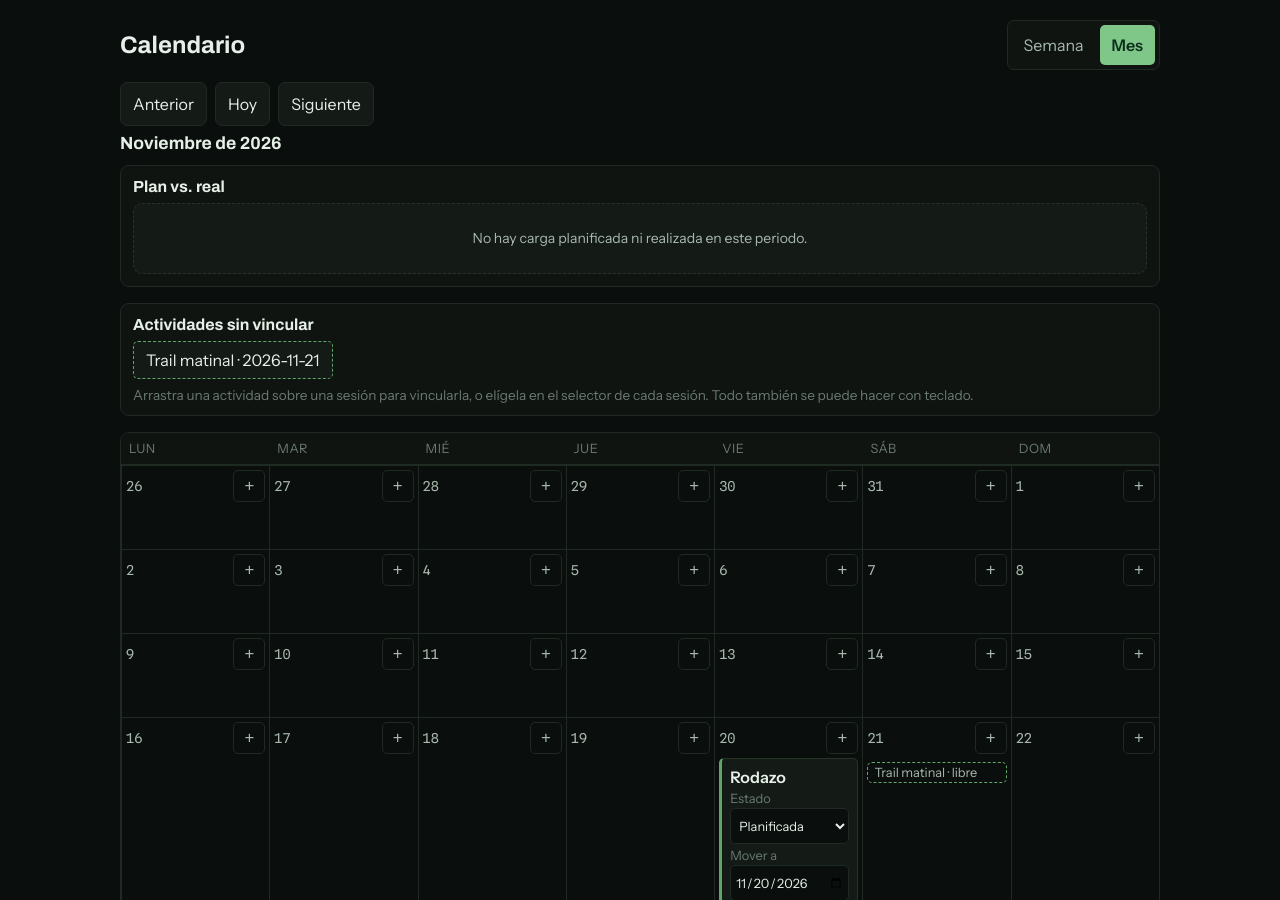
CalendarContainer › switches to a seven-day week view and refetches its range
Expected: the text "Rodazo" is shown, [730,767,786,787]
Click the button "Semana" at {"x": 1054, "y": 45}, box [1012,25,1096,65]
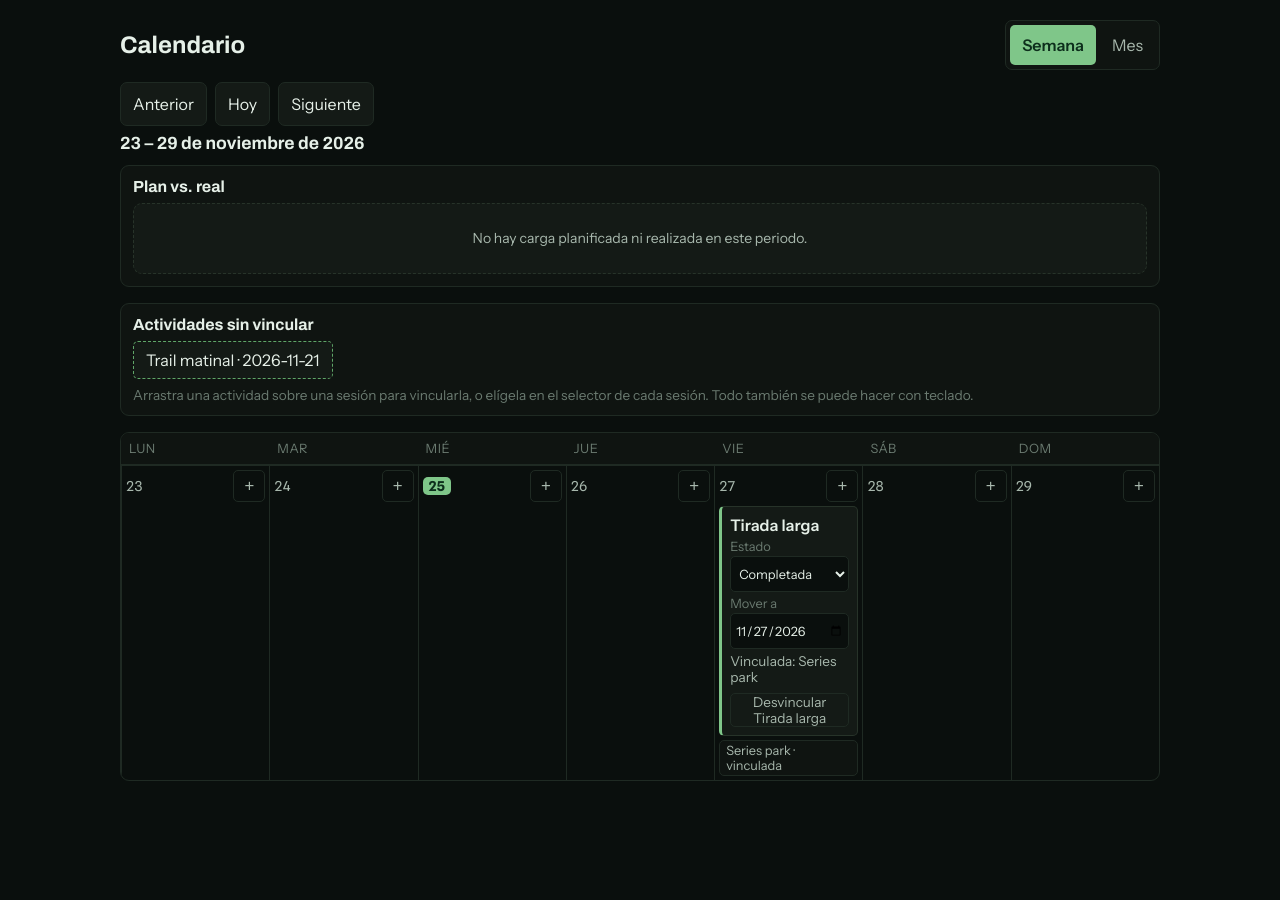
Expected: the heading "23 – 29 de noviembre de 2026" is shown, [120,134,364,153]
